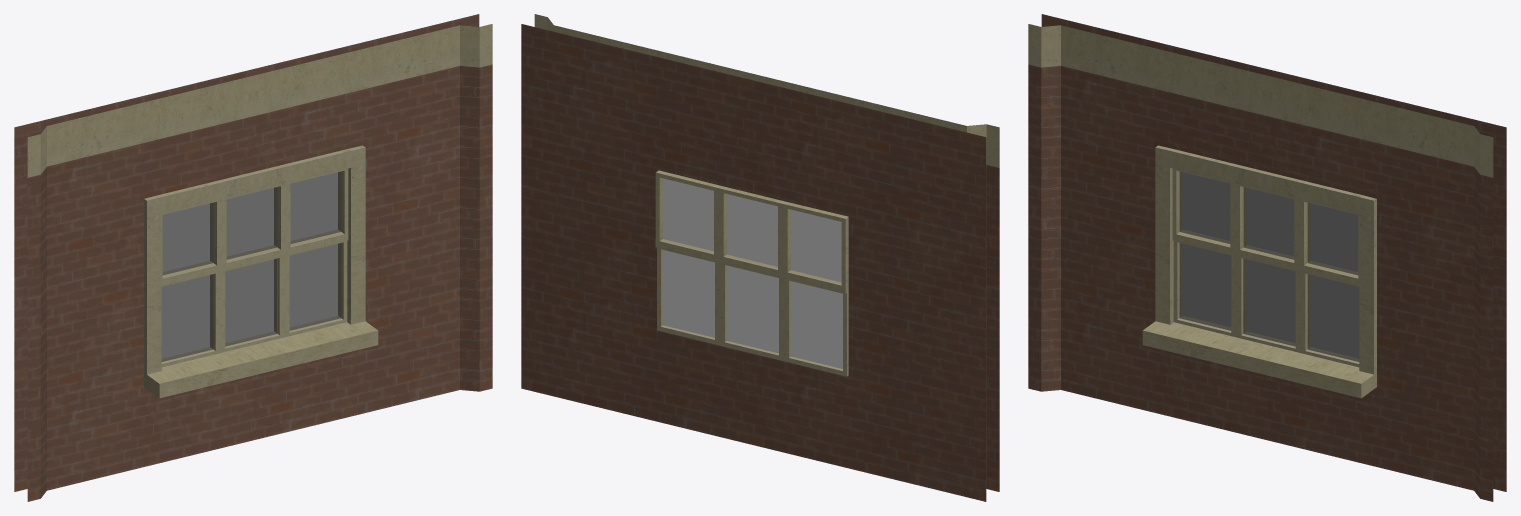
Rendered from Brick_Inset_Window.gltf.
3 renders of one model, left to right at view 1: azimuth 30°, elevation 25°; view 2: azimuth 150°, elevation 25°; view 3: azimuth 330°, elevation 25°, orthographic.
Parts seen in each view (by area): view 1: Brick_Inset_Window; view 2: Brick_Inset_Window; view 3: Brick_Inset_Window.
Boxes of the visible parts, x1,y1,x2,y2 form: Brick_Inset_Window: [14, 14, 492, 501]; Brick_Inset_Window: [521, 14, 999, 501]; Brick_Inset_Window: [1028, 14, 1506, 501].
Bounding box in the file's own units: 4 × 3 × 0.3743.
5 materials, 3 textured.
